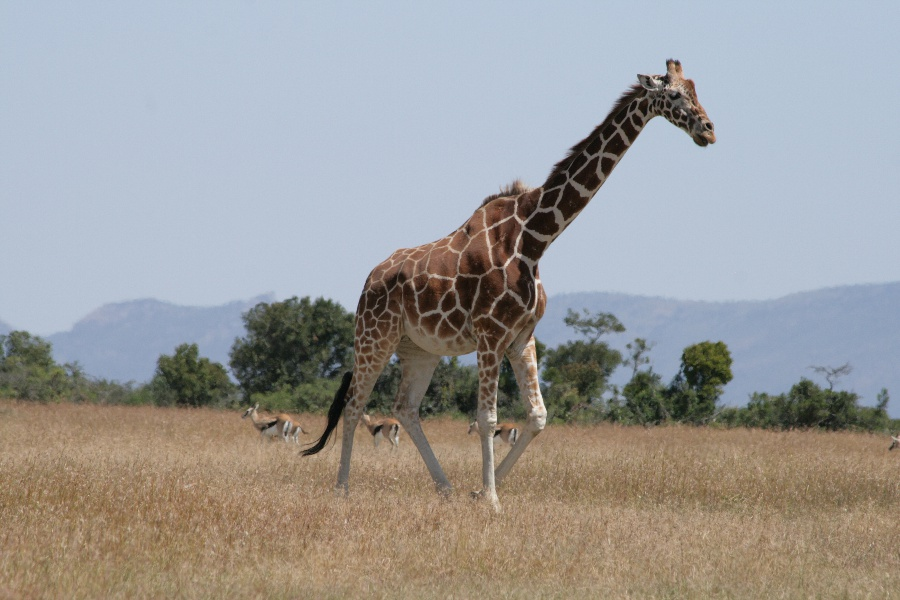giraffe: (315, 41, 722, 511)
